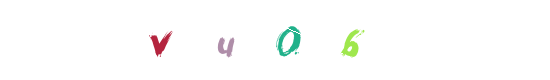0: (249, 0, 329, 80)
6: (250, 0, 330, 80)
U: (235, 0, 315, 80)
V: (120, 0, 200, 80)
